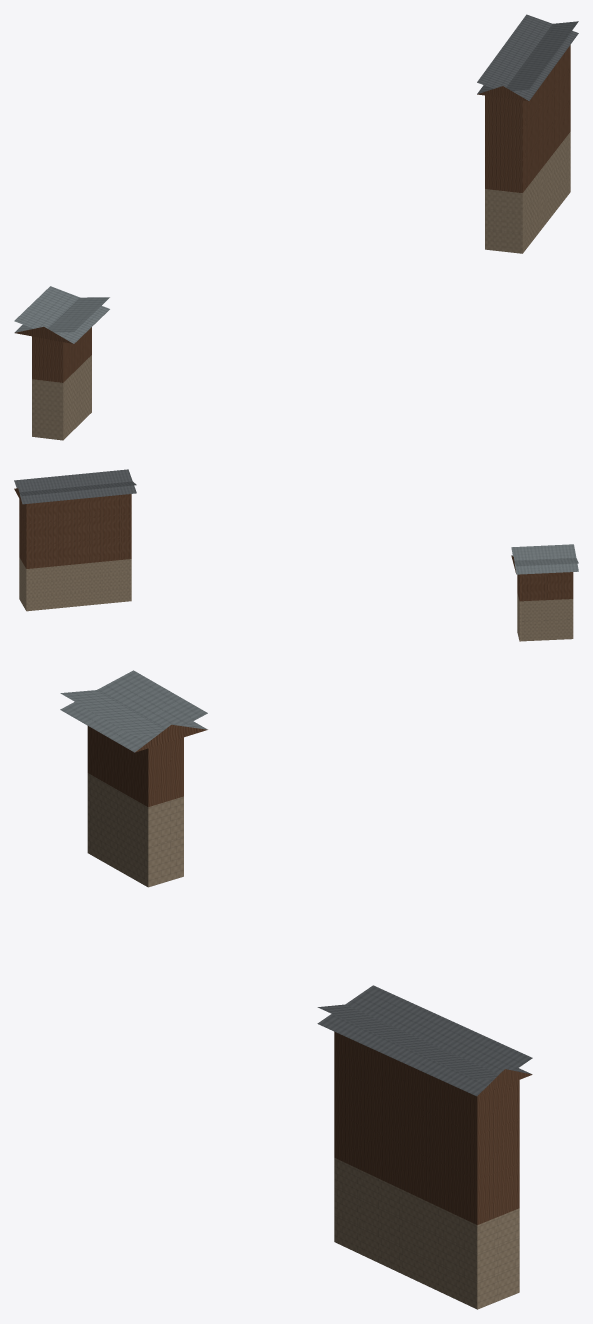
The model's file is bld_c21_44_386.gltf.
The picture shows the model from 3 angles, top to bottom: view 1: azimuth 30°, elevation 25°; view 2: azimuth 150°, elevation 25°; view 3: azimuth 270°, elevation 25°; orthographic projection. The views are drawn at different scales.
Parts seen in each view (by area): view 1: bld_c21_44_386; view 2: bld_c21_44_386; view 3: bld_c21_44_386.
Part boxes in pixels (x1,y1,x2,y2): bld_c21_44_386: [14, 14, 578, 440]; bld_c21_44_386: [14, 469, 578, 641]; bld_c21_44_386: [60, 670, 532, 1309].
Size of the model in its own units: 60.57 by 14.2 by 25.89.
Materials: 5 (5 with a texture image).
